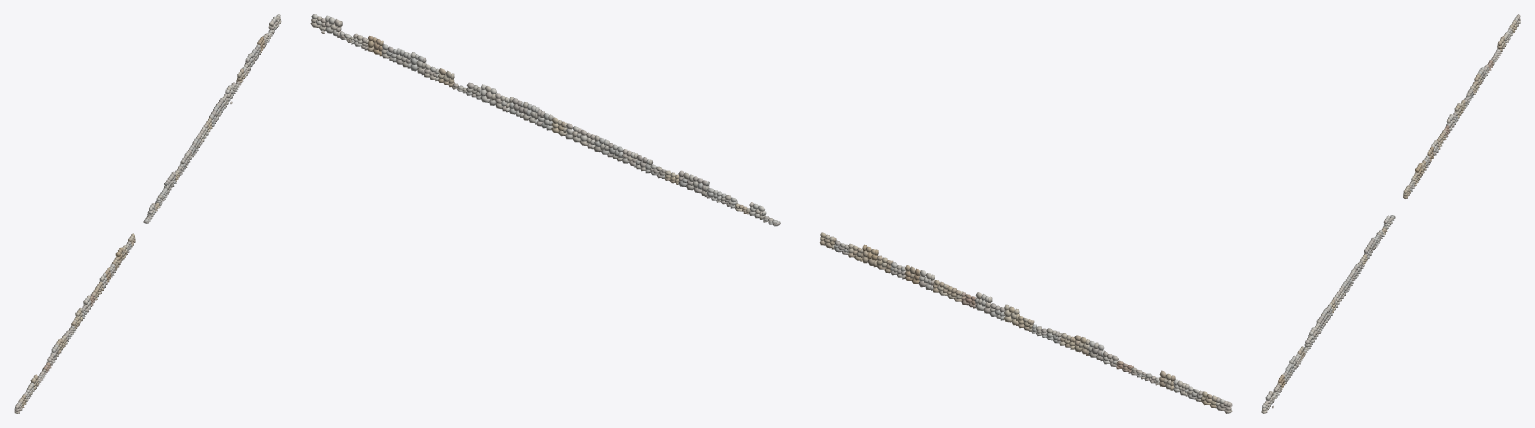
File: farm_4_5_near.glb
3 renders of one model, left to right at view 1: azimuth 90°, elevation 25°; view 2: azimuth 150°, elevation 25°; view 3: azimuth 270°, elevation 25°, orthographic. The views are drawn at different scales.
Visible parts, largest first — view 1: geometry_0; view 2: geometry_0; view 3: geometry_0.
Part boxes in pixels (left/top/right/bottom): geometry_0: left=14, top=14, right=281, bottom=413; geometry_0: left=310, top=14, right=1232, bottom=413; geometry_0: left=1261, top=14, right=1520, bottom=413.
Bounding box in the file's own units: 99.58 × 2.12 × 28.2.
